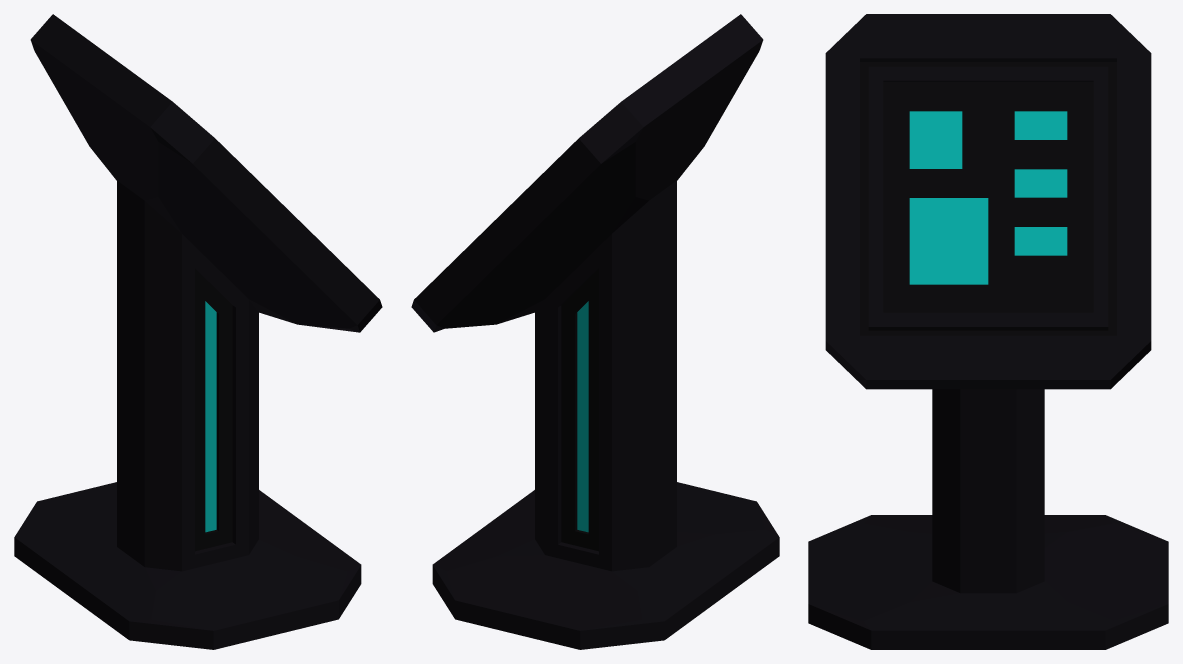
Rendered from SM_Control_Pannel.obj.
3 views of the same model, side by side, from view 1: azimuth 30°, elevation 25°; view 2: azimuth 150°, elevation 25°; view 3: azimuth 270°, elevation 25° (orthographic).
Visible parts, largest first — view 1: SM_Control_Pannel; view 2: SM_Control_Pannel; view 3: SM_Control_Pannel.
Part boxes in pixels (box(x1,y1,x2,y2)): SM_Control_Pannel: box(14, 14, 382, 649); SM_Control_Pannel: box(411, 14, 779, 649); SM_Control_Pannel: box(808, 14, 1168, 649).
Size of the model in its own units: 0.515 by 1.04 by 0.6286.
